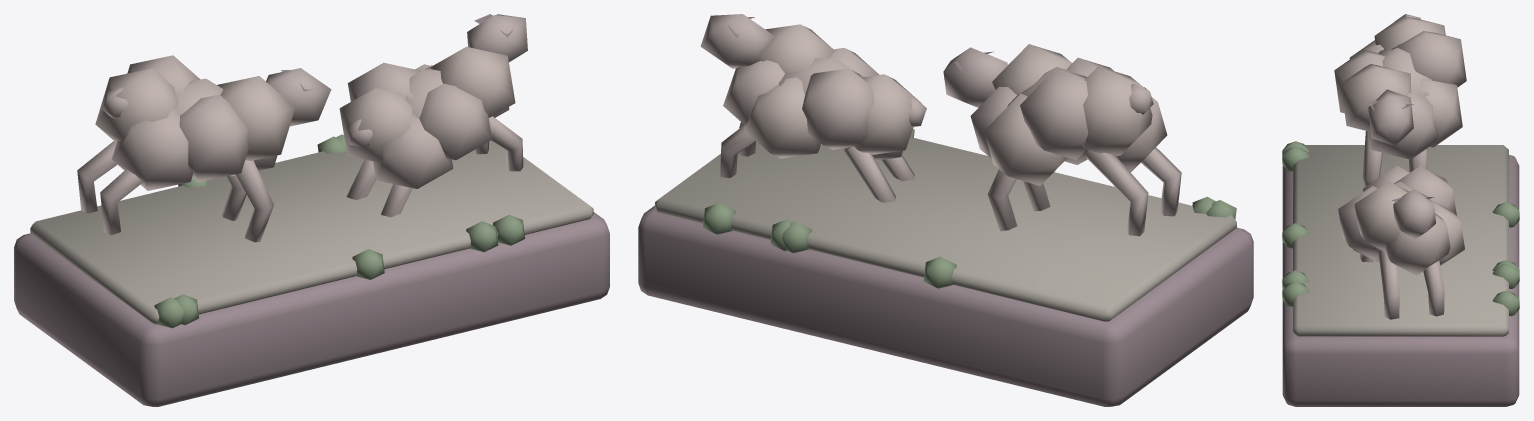
The model's file is lamb_statue.glb.
The picture shows the model from 3 angles, left to right: view 1: azimuth 30°, elevation 25°; view 2: azimuth 150°, elevation 25°; view 3: azimuth 270°, elevation 25°; orthographic projection. The views are drawn at different scales.
Visible parts, largest first — view 1: lamb_statue; view 2: lamb_statue; view 3: lamb_statue.
Part boxes in pixels (<box>): lamb_statue: <box>14,14,609,406</box>; lamb_statue: <box>638,14,1253,406</box>; lamb_statue: <box>1282,14,1519,406</box>.
Size of what is drawn, in the model's own units: 1.8 by 1 by 0.93.
